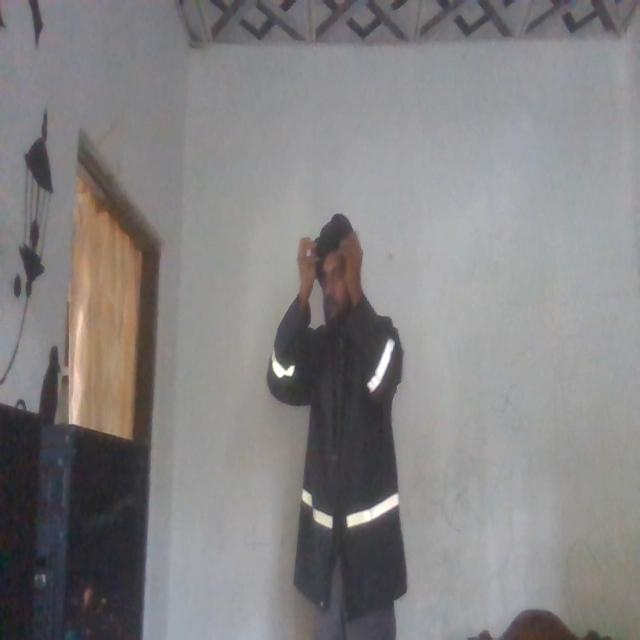Jacket_Wearer: (272, 310, 418, 606)
Person: (270, 192, 410, 640)
